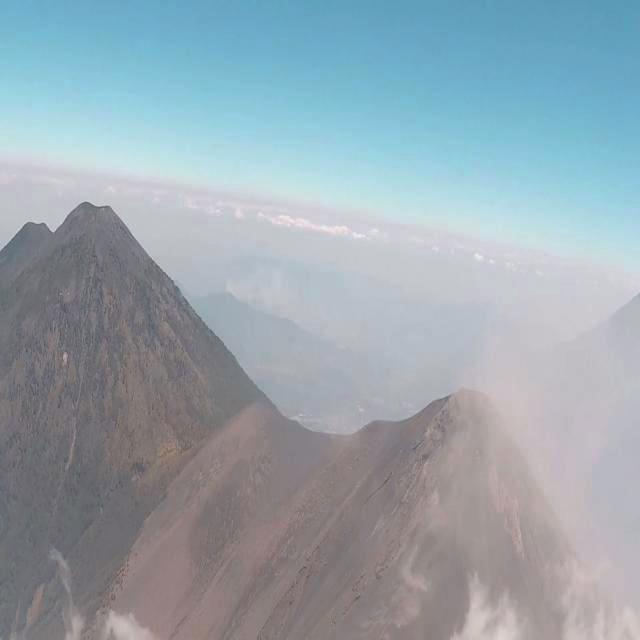Summit: (333, 360, 590, 598)
